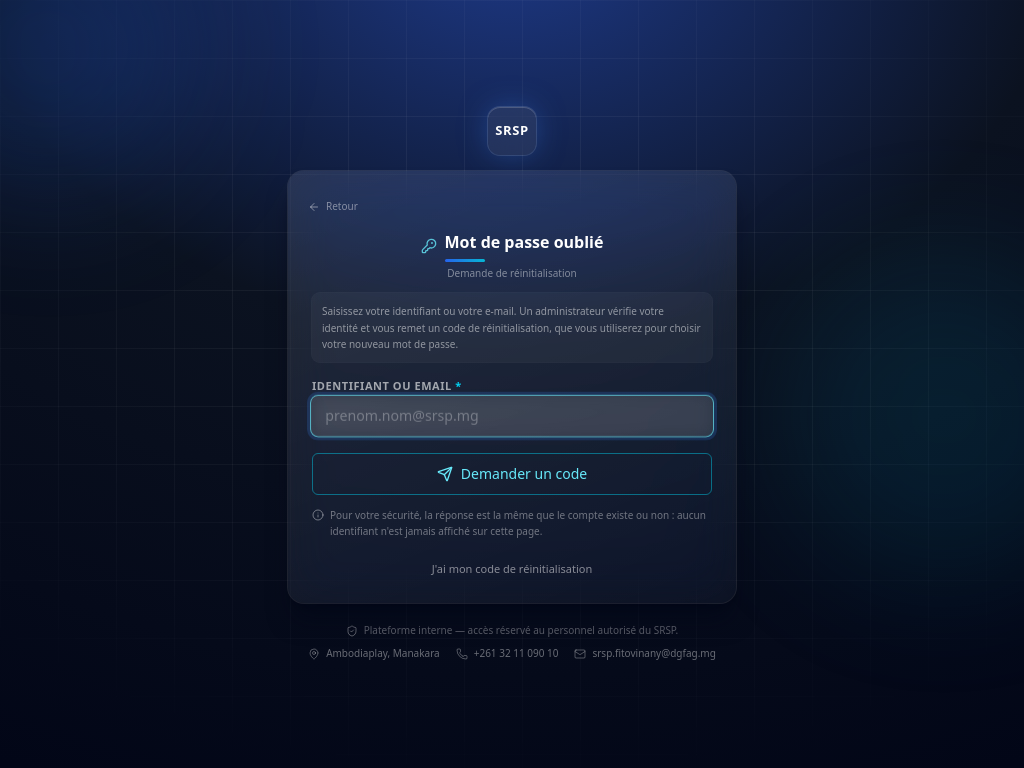
Mot de passe oublié — dépôt de la demande › affiche la confirmation quel que soit le compte
Type "secretaire" into the field labelled "Identifiant ou email *" at (512, 416), box [310,394,714,437]
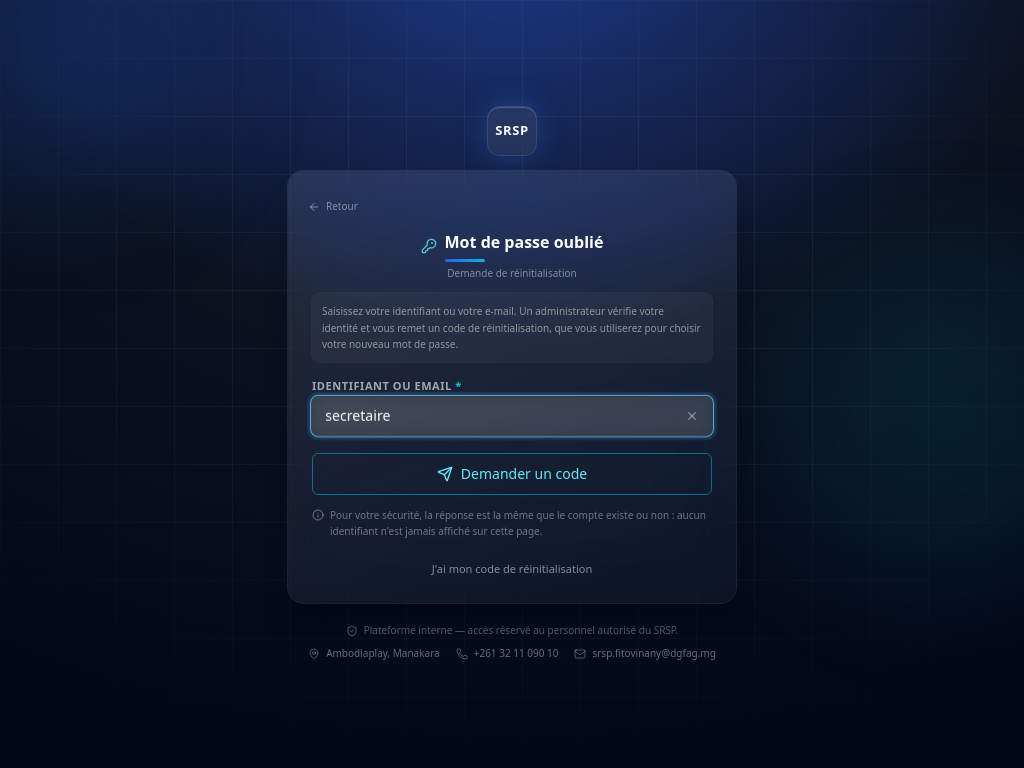
Click the button "Demander un code" at (512, 474), box [312,453,712,495]
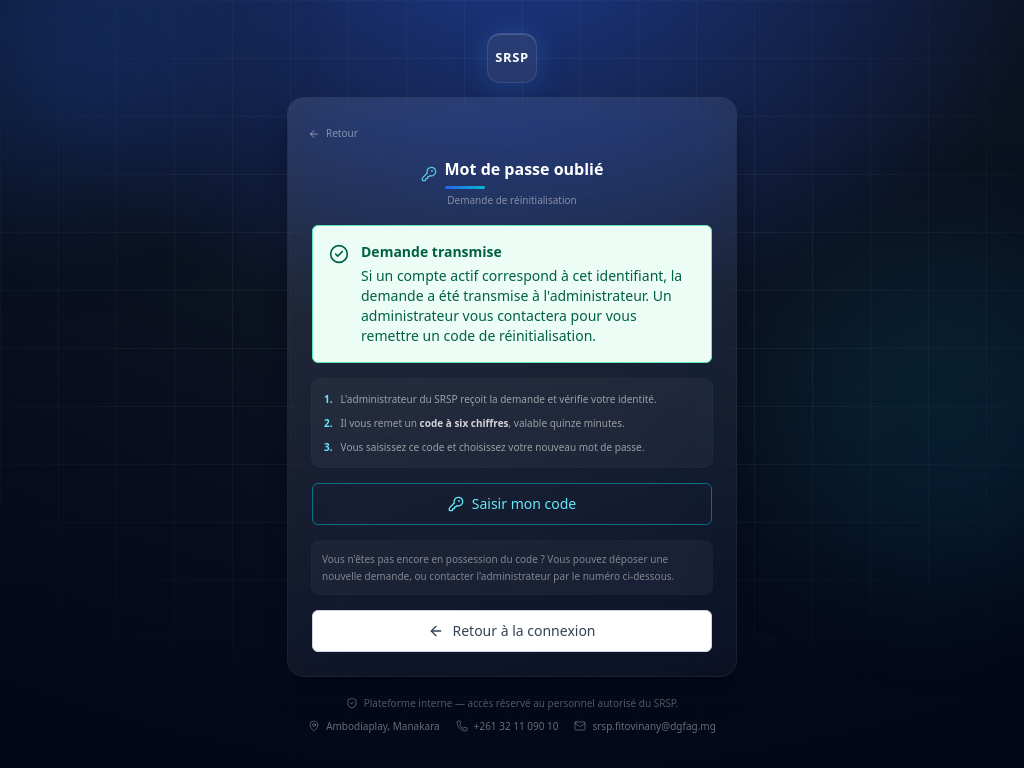
Expected: the text "la demande a été transmise" is shown, [361,266,682,345]
